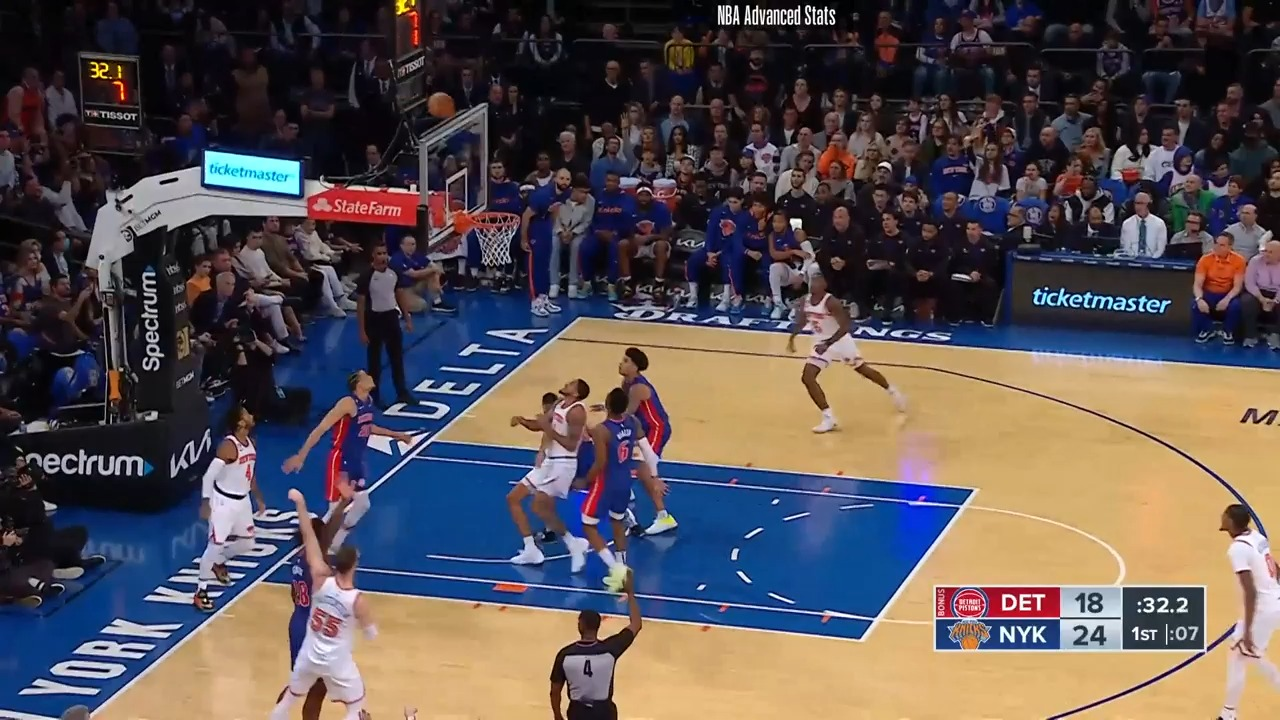net: (455, 203, 525, 269)
player: (284, 369, 412, 568), (283, 482, 389, 719), (786, 274, 905, 436), (506, 377, 596, 584), (1203, 502, 1280, 720), (579, 384, 654, 604), (293, 479, 357, 720), (611, 343, 683, 537), (192, 408, 260, 610)
referee: (359, 245, 427, 424), (548, 609, 648, 720)
